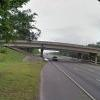Bridge: (12, 28, 100, 66)
